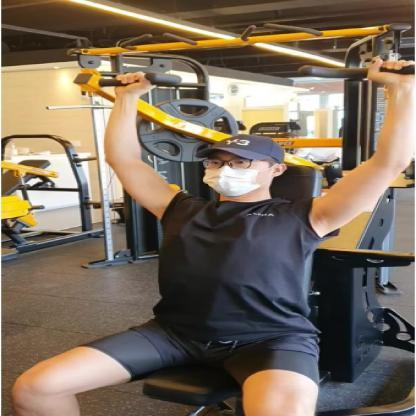shoulder press machine: (17, 21, 416, 416)
